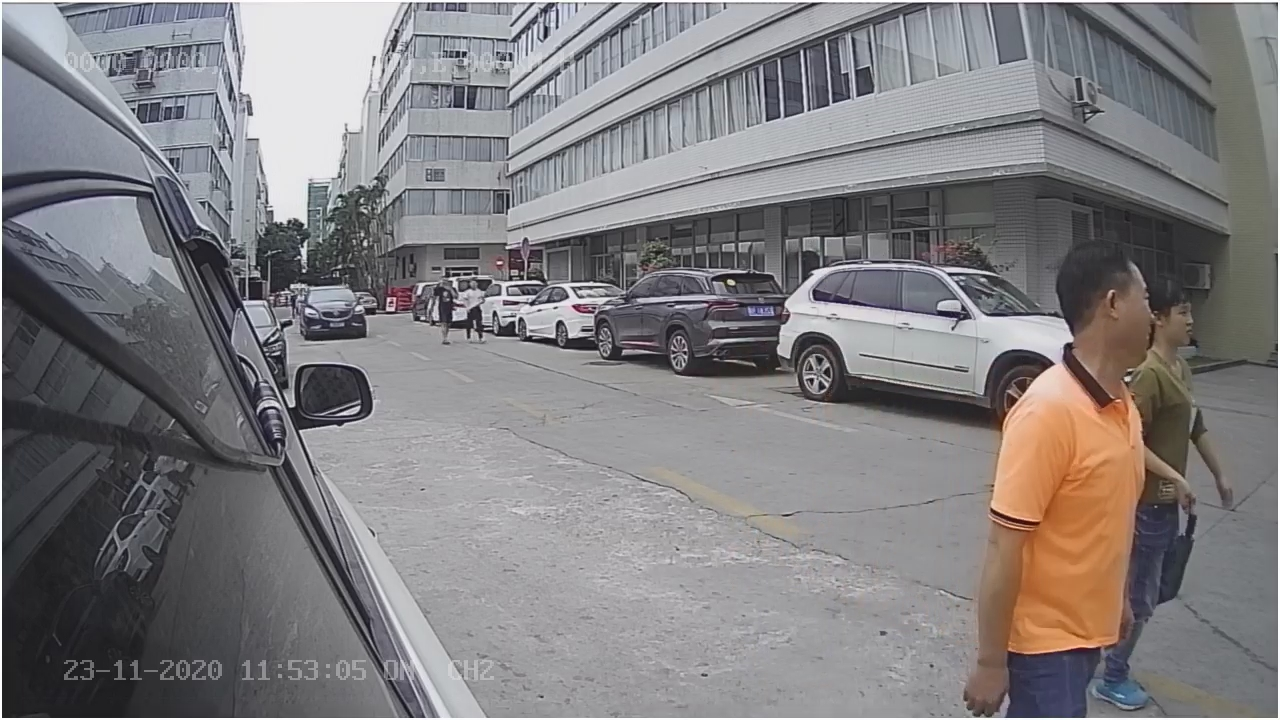person: (976, 240, 1143, 720)
